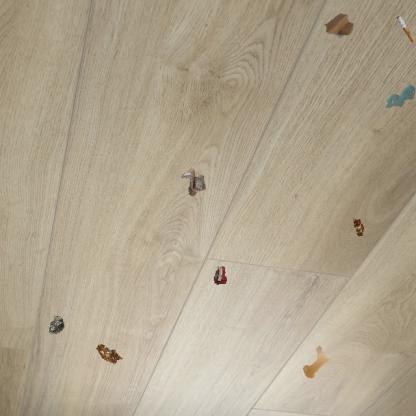dirty: (322, 12, 356, 41), (179, 166, 208, 200), (95, 342, 124, 365), (396, 14, 416, 44), (47, 313, 66, 337), (212, 264, 229, 287), (351, 215, 366, 239)
liquid: (302, 344, 332, 380), (386, 82, 416, 108)
